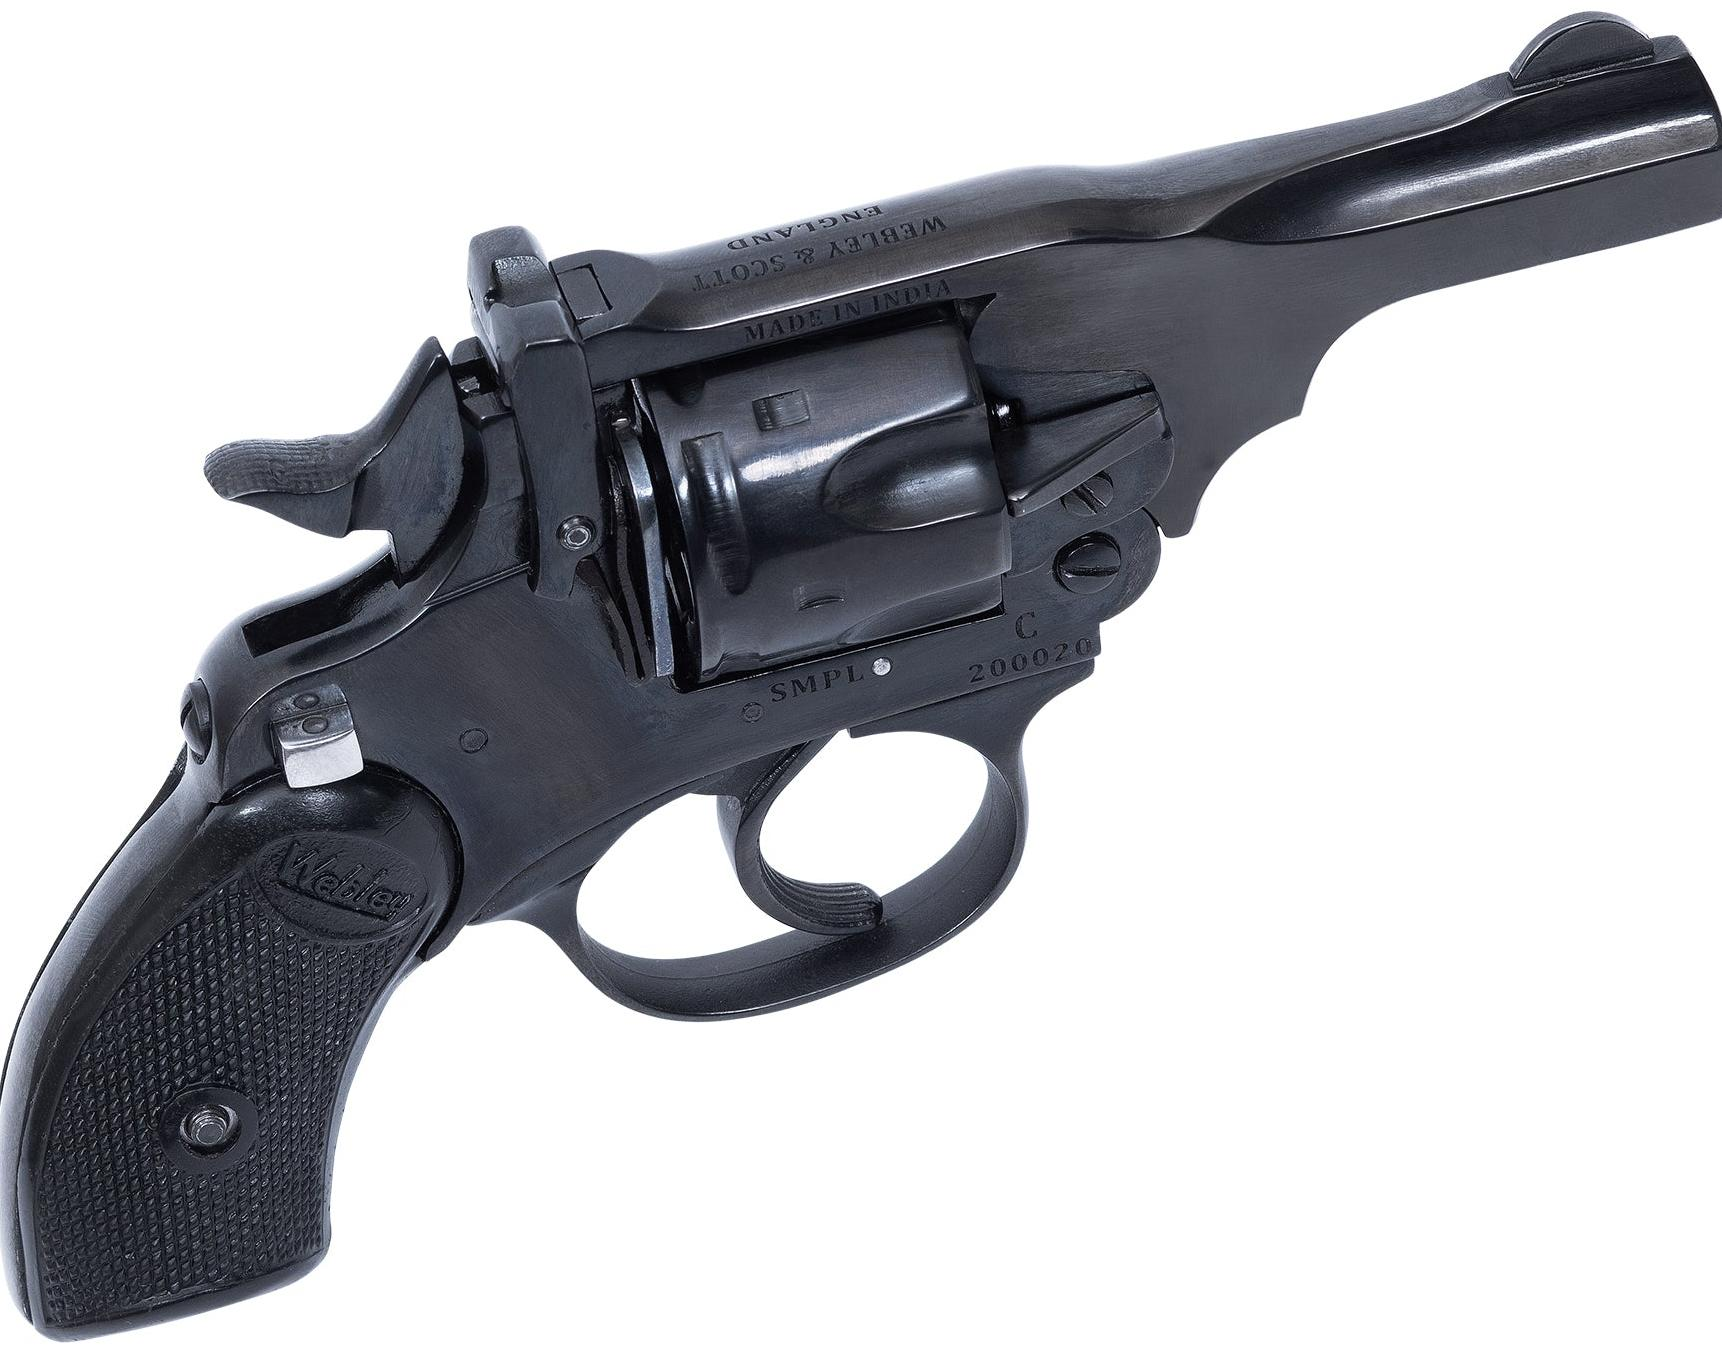gun: (0, 1, 1722, 1349)
